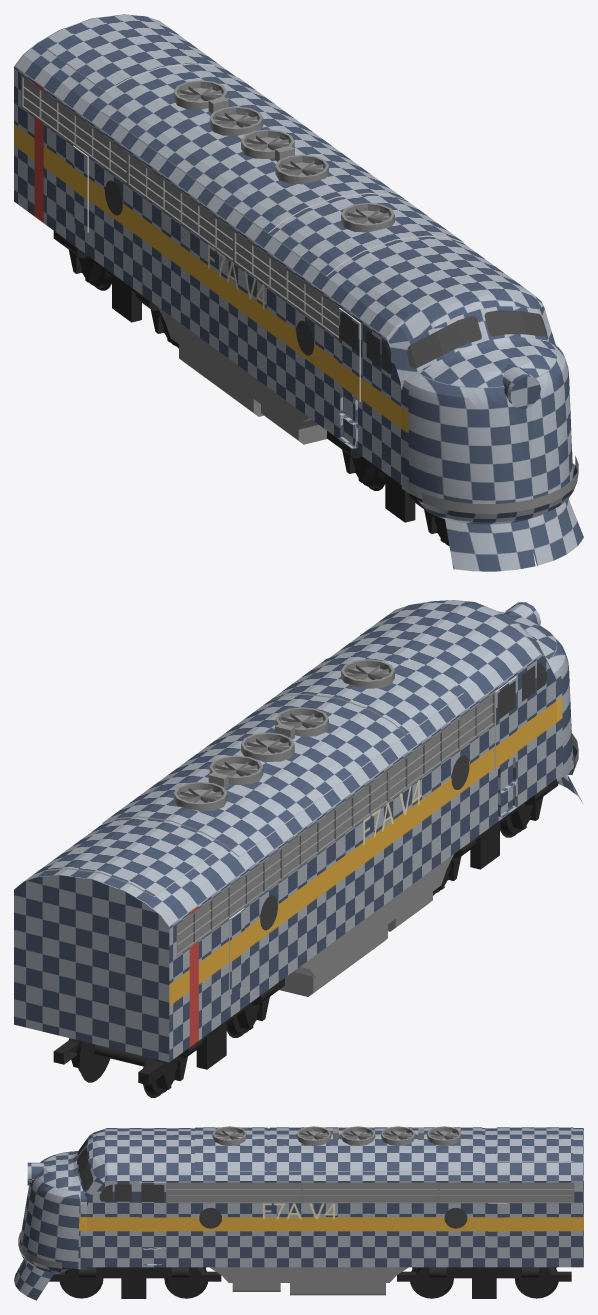
The model's file is f7a-v4-checker.dae.
3 views of the same model, one above another, from view 1: azimuth 30°, elevation 25°; view 2: azimuth 150°, elevation 25°; view 3: azimuth 270°, elevation 25° (orthographic). The views are drawn at different scales.
Visible parts, largest first — view 1: body_half (×21), side-grid (×3), bogie-mechanism-half (×4); view 2: body_half (×16), side-grid (×3), bogie-mechanism-half (×4), fan (×3), wheel_half; view 3: body_half (×22), side-grid (×6), bogie-mechanism-half (×4), fan (×5), wheel_half (×2).
Boxes of the visible parts, bbox=[...] form: body_half (×21): bbox=[14, 14, 583, 571]; side-grid (×3): bbox=[22, 77, 338, 337]; bogie-mechanism-half (×4): bbox=[53, 231, 448, 542]; body_half (×16): bbox=[14, 600, 572, 1062]; side-grid (×3): bbox=[177, 694, 494, 954]; bogie-mechanism-half (×4): bbox=[138, 779, 558, 1089]; fan (×3): bbox=[173, 659, 394, 811]; wheel_half: bbox=[76, 1041, 108, 1079]; body_half (×22): bbox=[14, 1127, 583, 1300]; side-grid (×6): bbox=[166, 1182, 574, 1203]; bogie-mechanism-half (×4): bbox=[49, 1267, 571, 1298]; fan (×5): bbox=[212, 1126, 461, 1145]; wheel_half (×2): bbox=[166, 1267, 556, 1296].
Size of the model in its own units: 126 by 586 by 179.
Materials: 15 (11 with a texture image).
